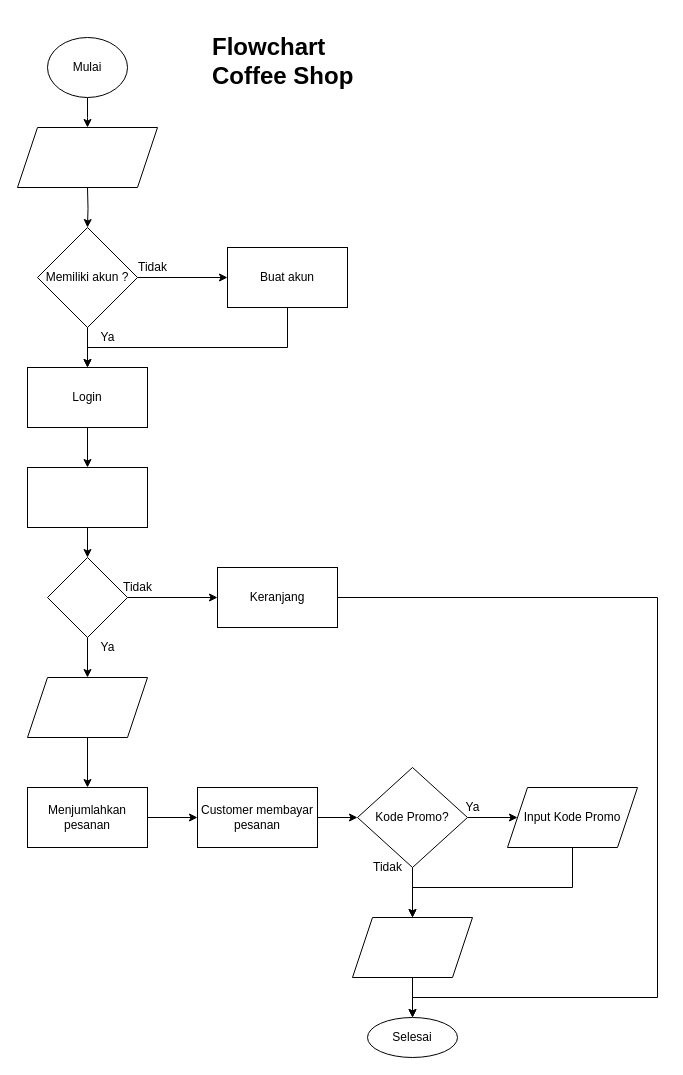
Image size: 683x1075. Some labels were removed from this diagram. Each missing label, with the centre of its shape:
"Beli?" goes at [87,597].
"Customer memilih product" goes at [87,497].
"Input Data Order" goes at [87,707].
"Input Username & Password" goes at [87,157].
"Output Print Checkout" goes at [412,947].
